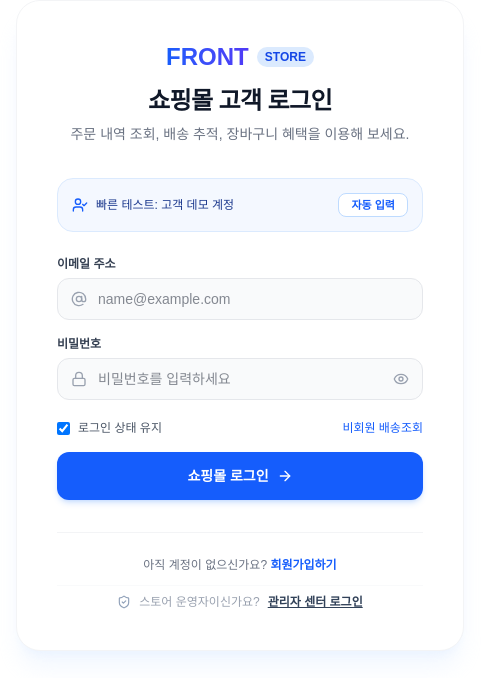
CustomerLoginForm Component › 데모 계정 자동 입력 버튼 클릭 시 고객 정보가 입력된다
Click the button "자동 입력".
click(373, 205)  # box [338,193,408,218]
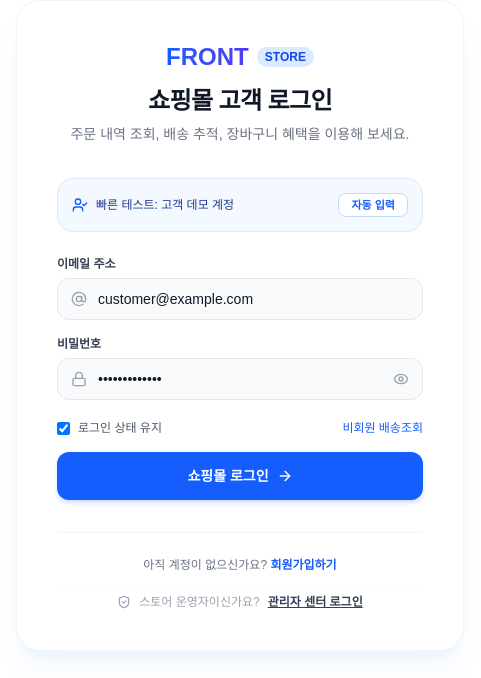
Expected: the field with placeholder "name@example.com" holds "customer@example.com", [57,278,423,320]
Expected: the password field with placeholder "비밀번호를 입력하세요" holds "customer1234!", [57,358,423,400]
